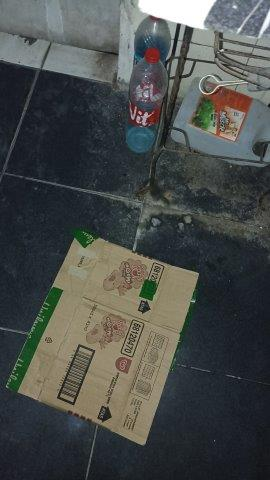kardus: (7, 236, 198, 444)
